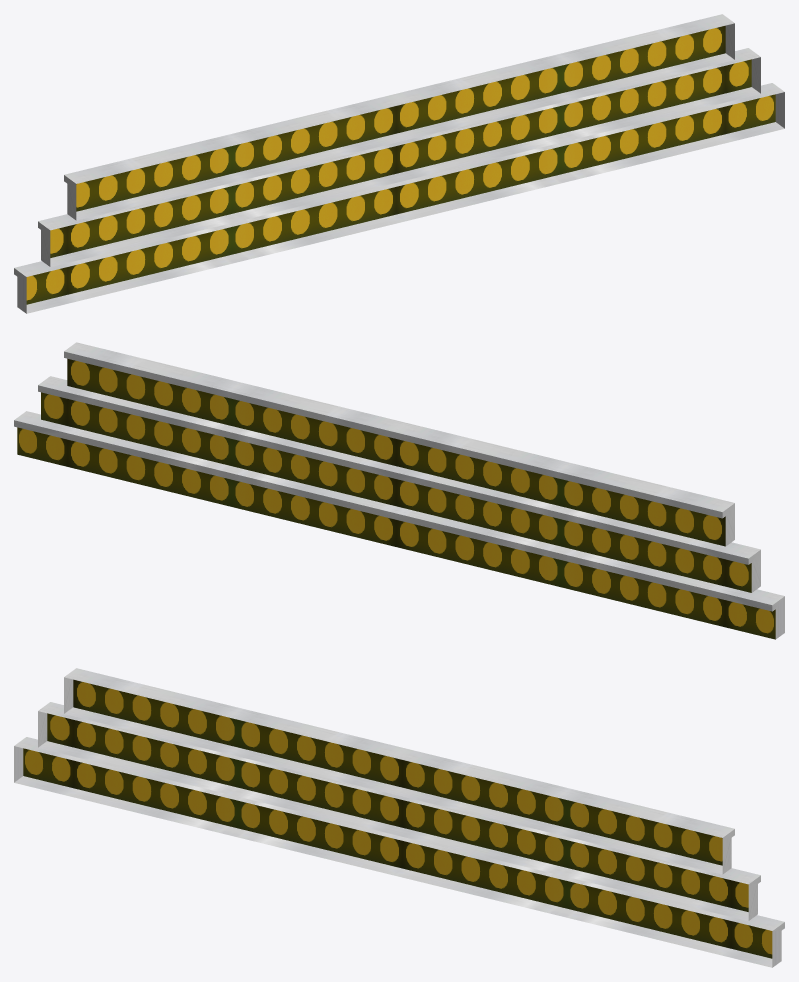
File: Light_Scaffold.fbx
3 views of the same model, one above another, from view 1: azimuth 30°, elevation 25°; view 2: azimuth 150°, elevation 25°; view 3: azimuth 330°, elevation 25° (orthographic).
Visible parts, largest first — view 1: Light_Scaffold; view 2: Light_Scaffold; view 3: Light_Scaffold.
Part boxes in pixels (x1,y1,x2,y2): Light_Scaffold: [14, 14, 784, 313]; Light_Scaffold: [14, 342, 784, 639]; Light_Scaffold: [14, 668, 784, 967].
Size of the model in its own units: 40.11 by 5.95 by 1.15.
